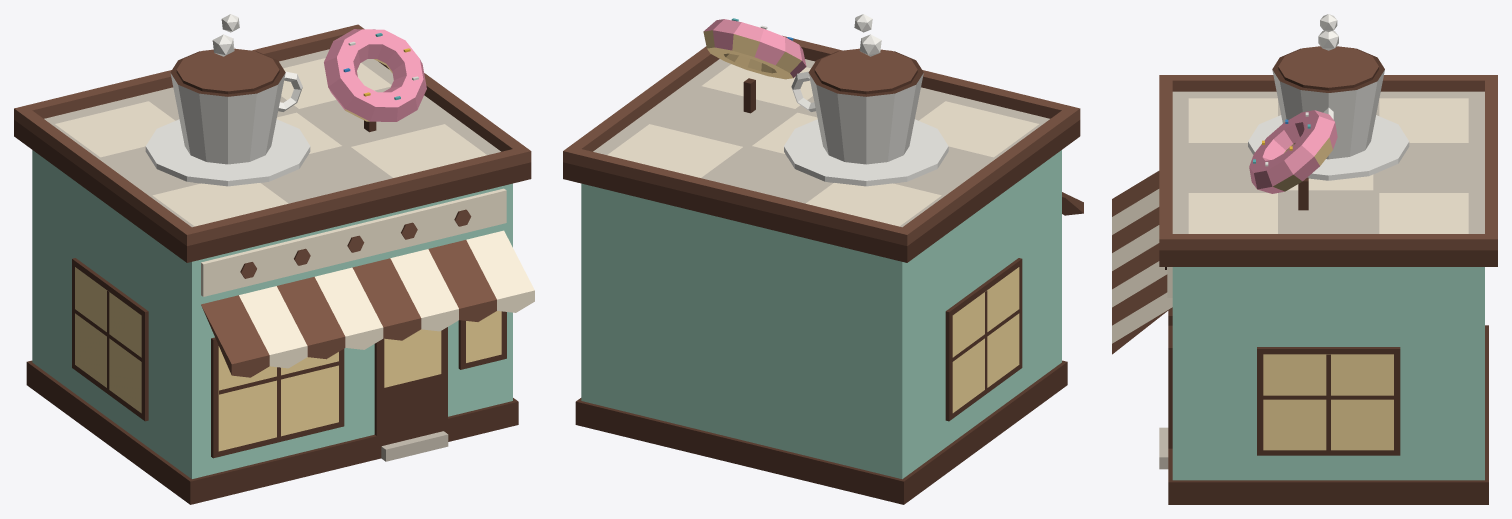
The model's file is B_Cafe.fbx.
The picture shows the model from 3 angles, left to right: view 1: azimuth 30°, elevation 25°; view 2: azimuth 150°, elevation 25°; view 3: azimuth 270°, elevation 25°; orthographic projection. The views are drawn at different scales.
Parts seen in each view (by area): view 1: B_Cafe; view 2: B_Cafe; view 3: B_Cafe.
Boxes of the visible parts, x1,y1,x2,y2 form: B_Cafe: (14,14,534,504); B_Cafe: (563,14,1083,504); B_Cafe: (1112,14,1497,504).
Size of the model in its own units: 3.86 by 4.3 by 3.83.
